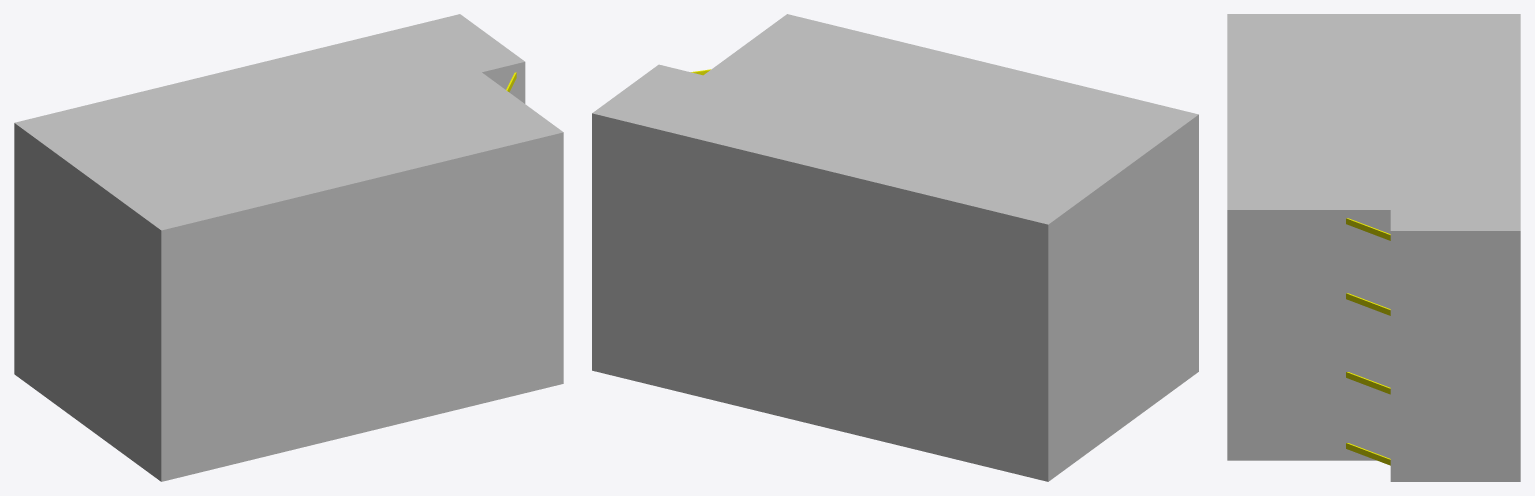
File: sm_hana_bas_cooling_tower.glb
3 views of the same model, side by side, from view 1: azimuth 30°, elevation 25°; view 2: azimuth 150°, elevation 25°; view 3: azimuth 270°, elevation 25° (orthographic). The views are drawn at different scales.
Parts seen in each view (by area): view 1: sm_color_common; view 2: sm_color_common; view 3: sm_color_common, sm_hana_bas_cooling_tower.
Boxes of the visible parts, <box> form: sm_color_common: <box>14,14,563,481</box>; sm_color_common: <box>592,14,1198,481</box>; sm_color_common: <box>1227,14,1520,481</box>; sm_hana_bas_cooling_tower: <box>1346,218,1390,465</box>.
Bounding box in the file's own units: 7.14 × 3.85 × 4.08.
Materials: 2 (1 with a texture image).
